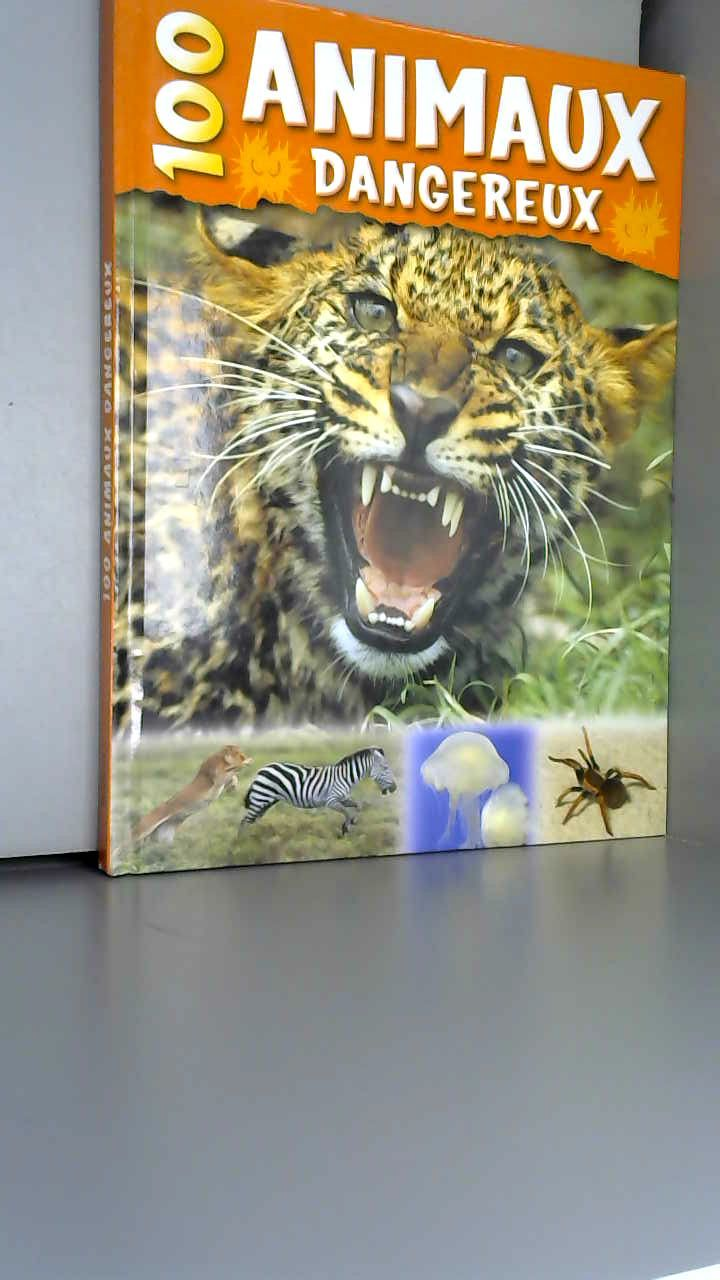book: (80, 0, 720, 902)
